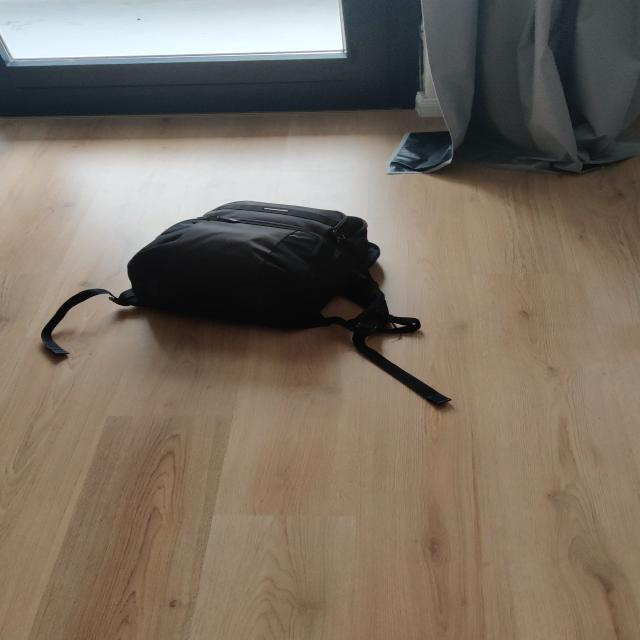backpack: (116, 195, 396, 336)
